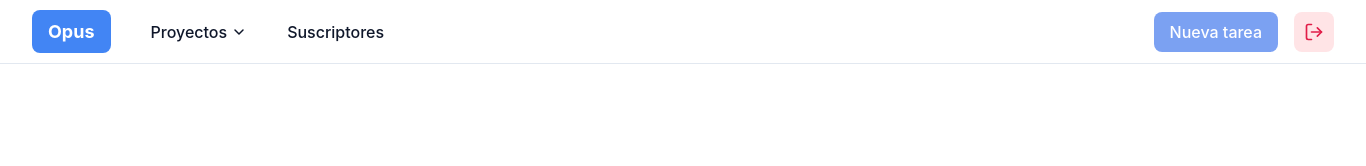
Header › muestra los proyectos en el dropdown al abrirlo
The image size is (1366, 166).
Click the button "Proyectos": {"x": 199, "y": 32} [134, 12, 263, 52]
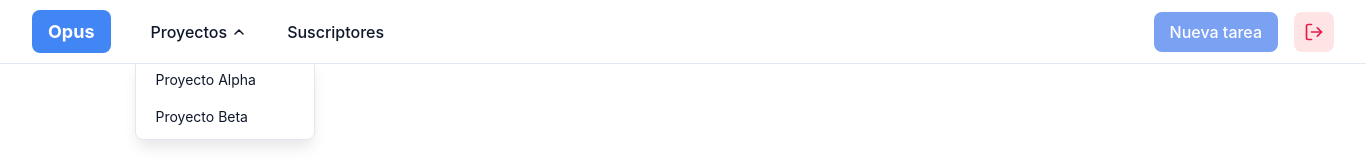
Expected: the button "Proyecto Alpha" is shown, [140, 60, 310, 98]
Expected: the button "Proyecto Beta" is shown, [140, 98, 310, 134]
